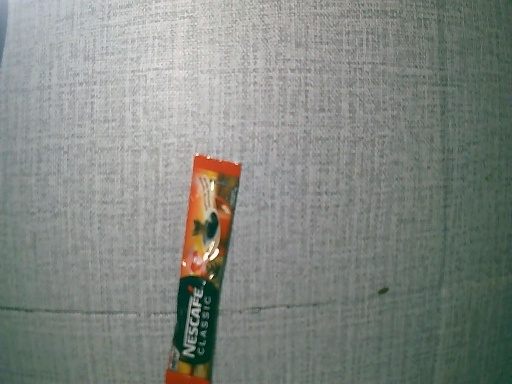plastic: (162, 159, 248, 384)
